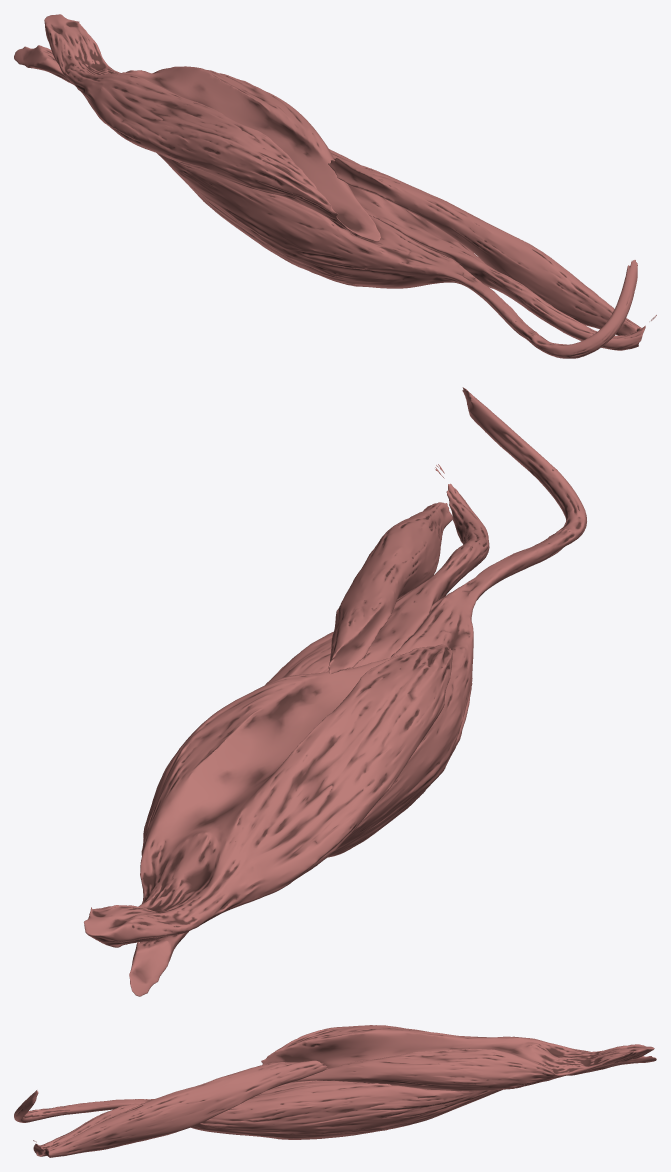
Rendered from biceps.6584255498.glb.
The picture shows the model from 3 angles, top to bottom: view 1: azimuth 30°, elevation 25°; view 2: azimuth 150°, elevation 25°; view 3: azimuth 270°, elevation 25°; orthographic projection. The views are drawn at different scales.
Visible parts, largest first — view 1: FMA37668, FMA37686, FMA37665, FMA37684; view 2: FMA37668, FMA37686, FMA37665, FMA37684; view 3: FMA37668, FMA37684, FMA37665, FMA37686.
Part boxes in pixels (x1=…): FMA37668: x1=44, y1=14, x2=380, y2=241; FMA37686: x1=14, y1=45, x2=637, y2=358; FMA37665: x1=328, y1=158, x2=641, y2=335; FMA37684: x1=329, y1=149, x2=656, y2=350; FMA37668: x1=84, y1=644, x2=452, y2=947; FMA37686: x1=129, y1=387, x2=586, y2=996; FMA37665: x1=328, y1=502, x2=452, y2=674; FMA37684: x1=265, y1=464, x2=489, y2=684; FMA37668: x1=261, y1=1025, x2=654, y2=1091; FMA37684: x1=33, y1=1080, x2=502, y2=1156; FMA37665: x1=44, y1=1060, x2=328, y2=1157; FMA37686: x1=14, y1=1056, x2=656, y2=1122.
Bounding box in the file's own units: 106 × 49.21 × 345.
